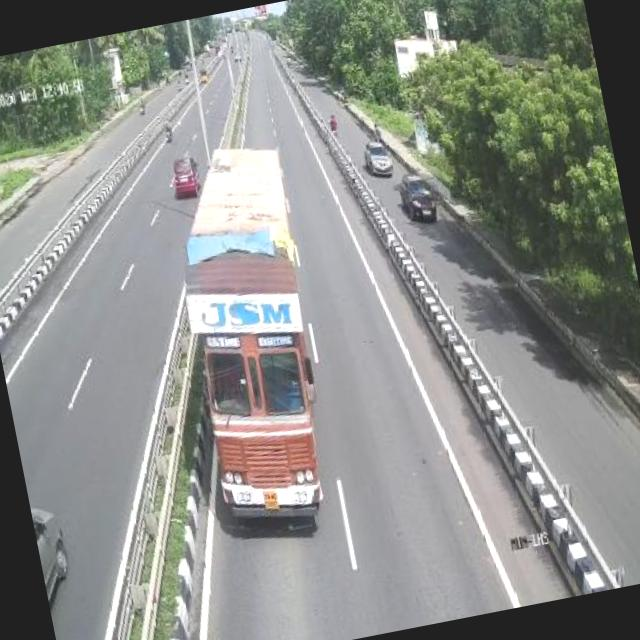car: (392, 165, 444, 228), (168, 150, 207, 203), (361, 131, 398, 180)
